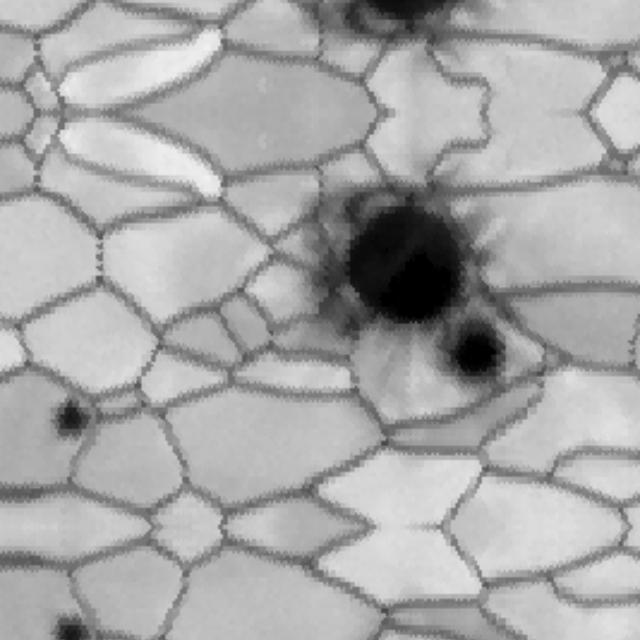good_void: (294, 181, 495, 351), (295, 0, 476, 46), (427, 313, 520, 399), (44, 387, 94, 450), (44, 606, 94, 640)
